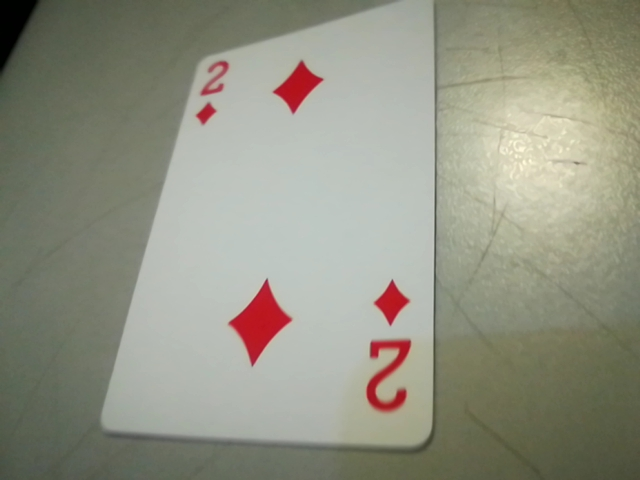fk 2: (350, 267, 426, 428), (179, 57, 239, 133)
